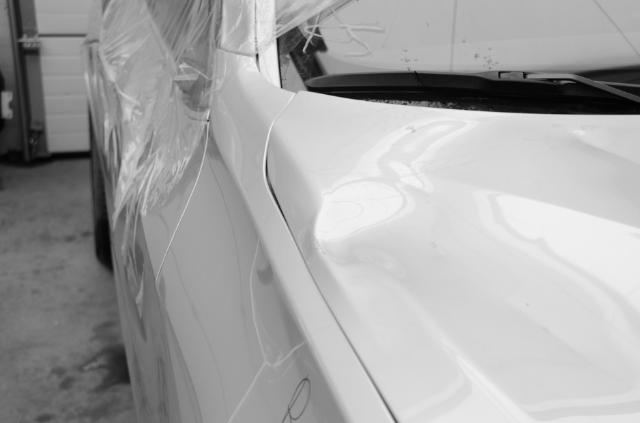Door: (79, 22, 214, 241)
